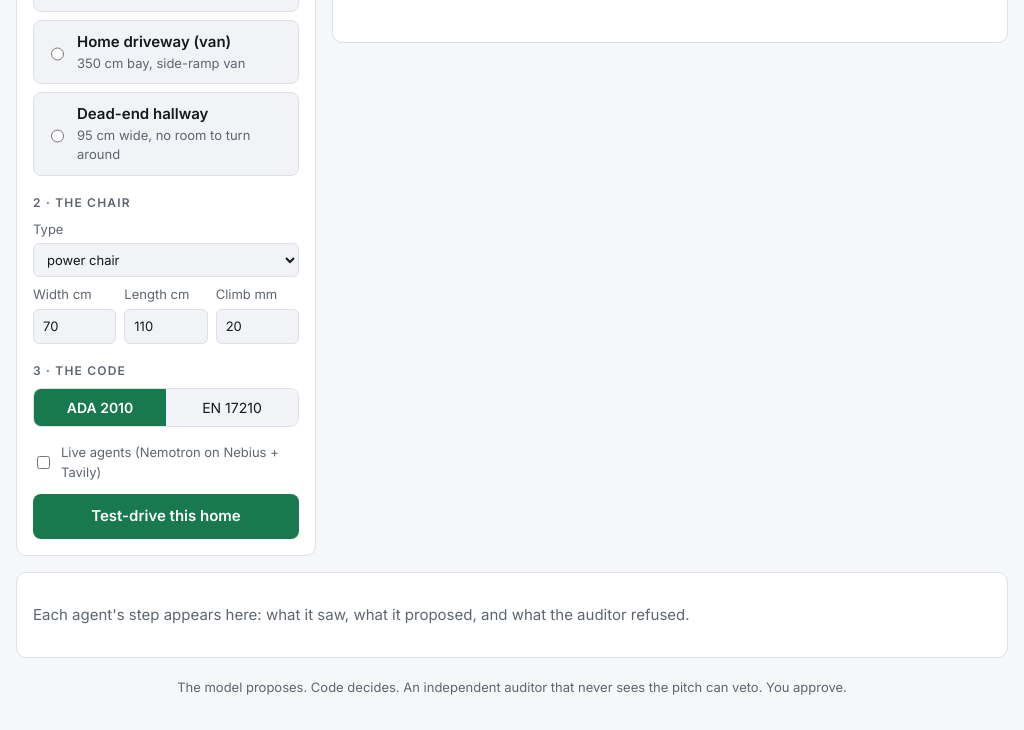
shows the server's reason instead of a blank screen
This screenshot has width=1024, height=730.
(page scrolled)
Step 1. Click the button "Test-drive this home" → [166, 516], box [33,494,299,538]
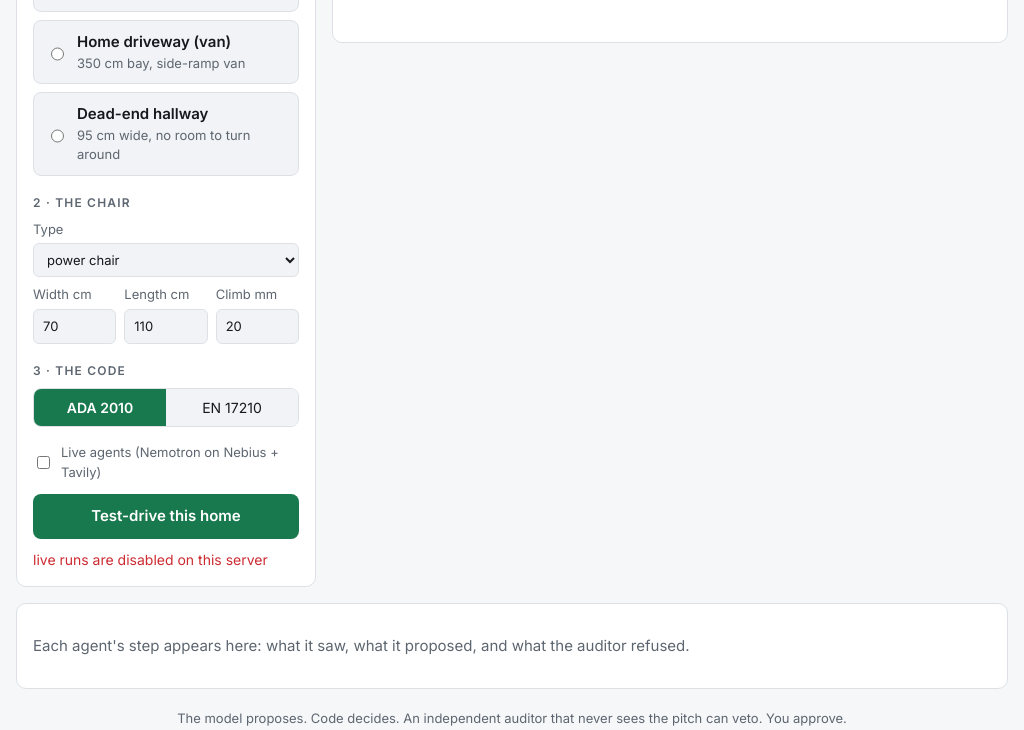
Result: the message shows "live runs are disabled" at [33,550,268,568]
